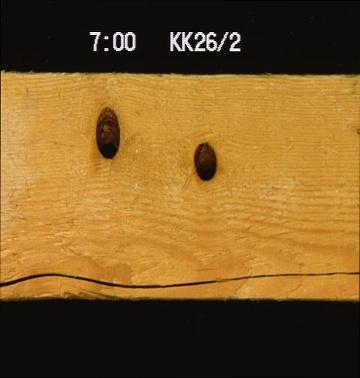split: (0, 268, 359, 290)
